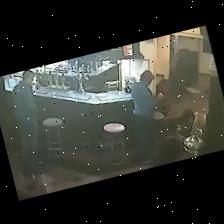person: (12, 70, 39, 185), (132, 71, 157, 163)
